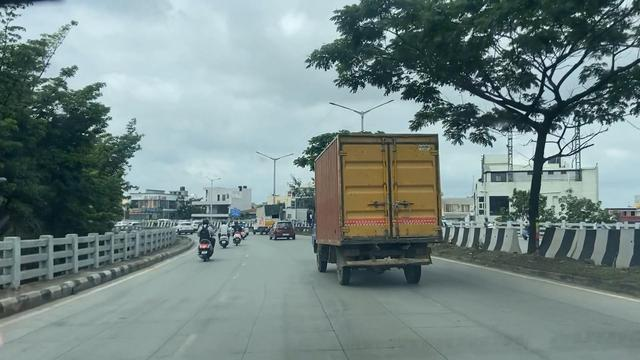HMV: (329, 125, 445, 292)
LMV: (197, 218, 219, 263), (266, 220, 294, 243), (233, 218, 244, 251)
